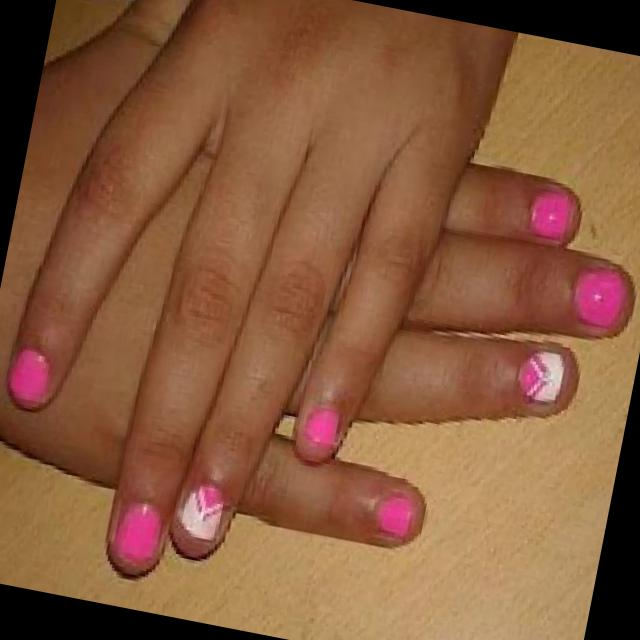Nail: (574, 268, 627, 329), (113, 502, 162, 564), (179, 485, 225, 540), (518, 351, 565, 403), (9, 348, 50, 407), (530, 192, 573, 240), (378, 495, 415, 538), (303, 407, 339, 446)
